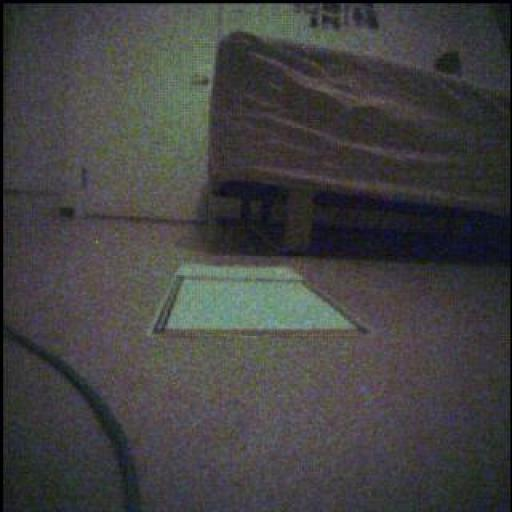pad: (152, 260, 364, 334)
